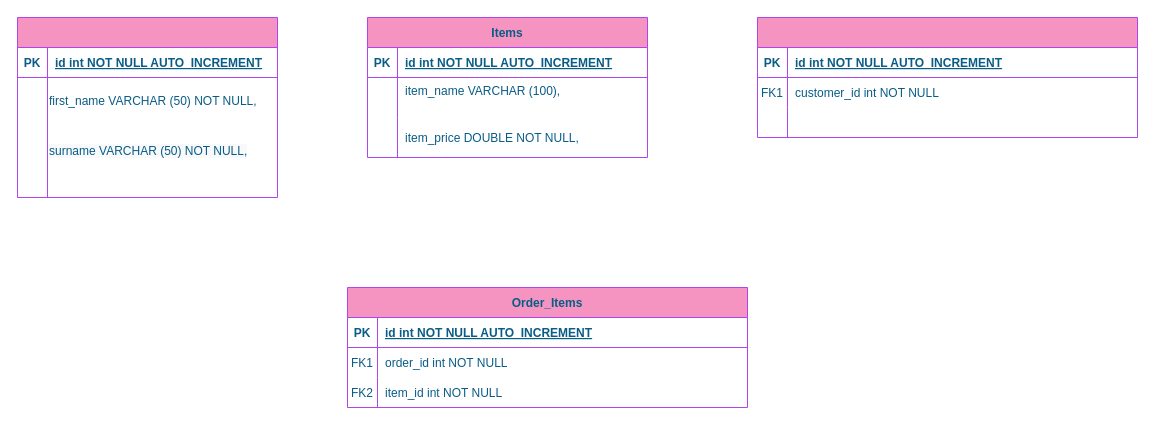
Image size: 1155x425. Some labels were removed from this diagram. The shapes that lost their labels are listed below. From the top down, each one's box as (x1, y1, x2, y2) in pixels, then its label:
(756, 16, 1138, 138): Orders
(16, 16, 278, 198): Customers
